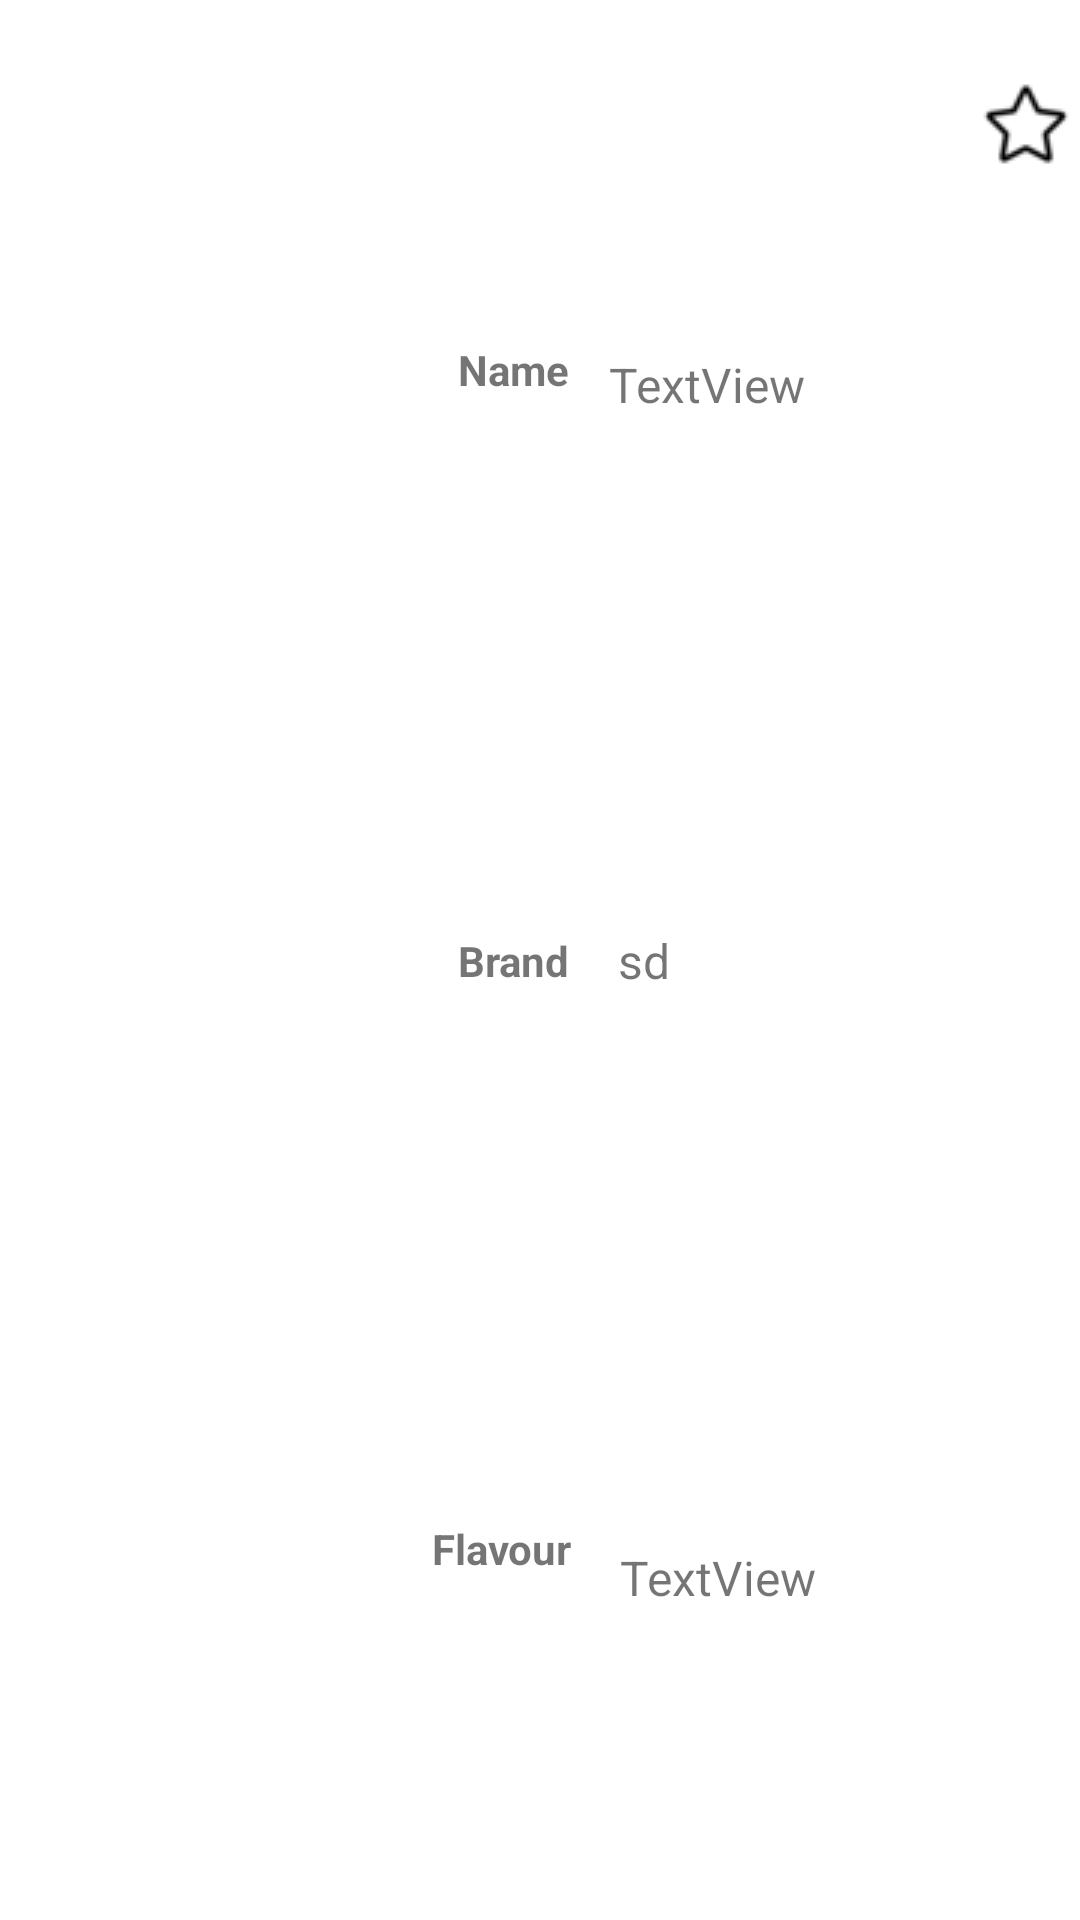

Icon click points for this 1080×1920 phone screenshot, format (x,y):
favorite border: (1026,124)
